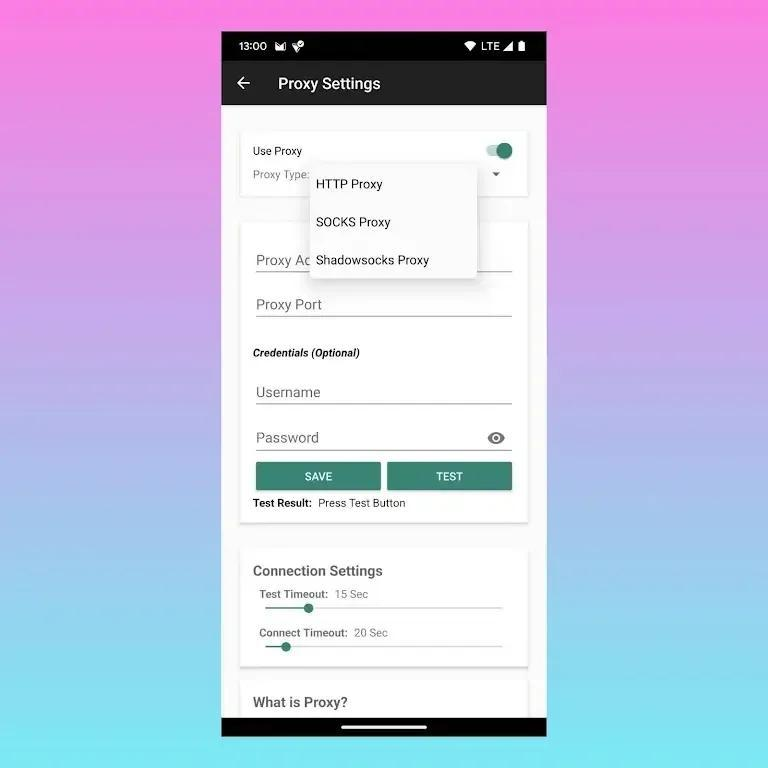button: (256, 461, 382, 492), (388, 462, 514, 491)
icon: (486, 429, 509, 448)
label: (252, 497, 409, 513), (250, 565, 388, 583), (253, 346, 364, 365), (278, 78, 384, 95), (253, 694, 353, 712), (317, 256, 431, 271), (258, 588, 376, 602), (257, 627, 392, 639), (316, 216, 392, 231), (315, 179, 386, 193), (252, 147, 304, 159)
slider: (260, 603, 505, 615), (262, 642, 507, 654)
switch: (486, 143, 513, 161)
